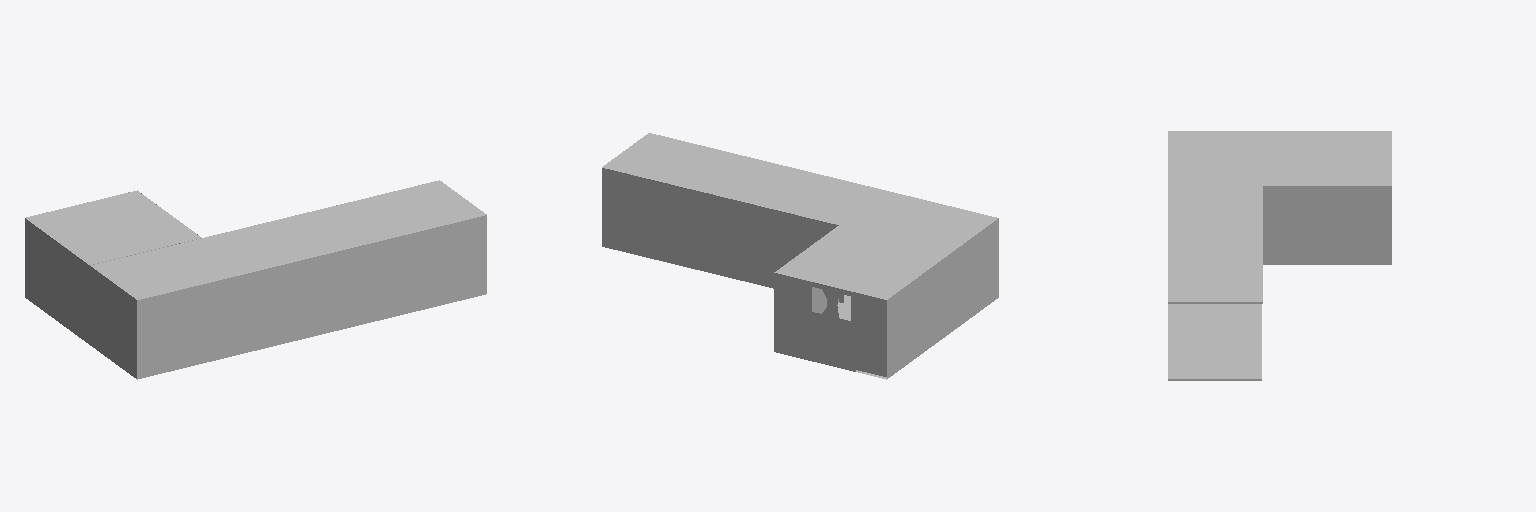
Rendered from entorno.obj.
3 renders of one model, left to right at view 1: azimuth 30°, elevation 25°; view 2: azimuth 150°, elevation 25°; view 3: azimuth 270°, elevation 25°, orthographic.
Visible parts, largest first — view 1: Cube; view 2: Cube; view 3: Cube.
Boxes of the visible parts, <box> form: Cube: <box>25,180,486,379</box>; Cube: <box>602,133,998,379</box>; Cube: <box>1168,131,1391,380</box>.
Bounding box in the file's own units: 26.14 × 5.67 × 14.54.